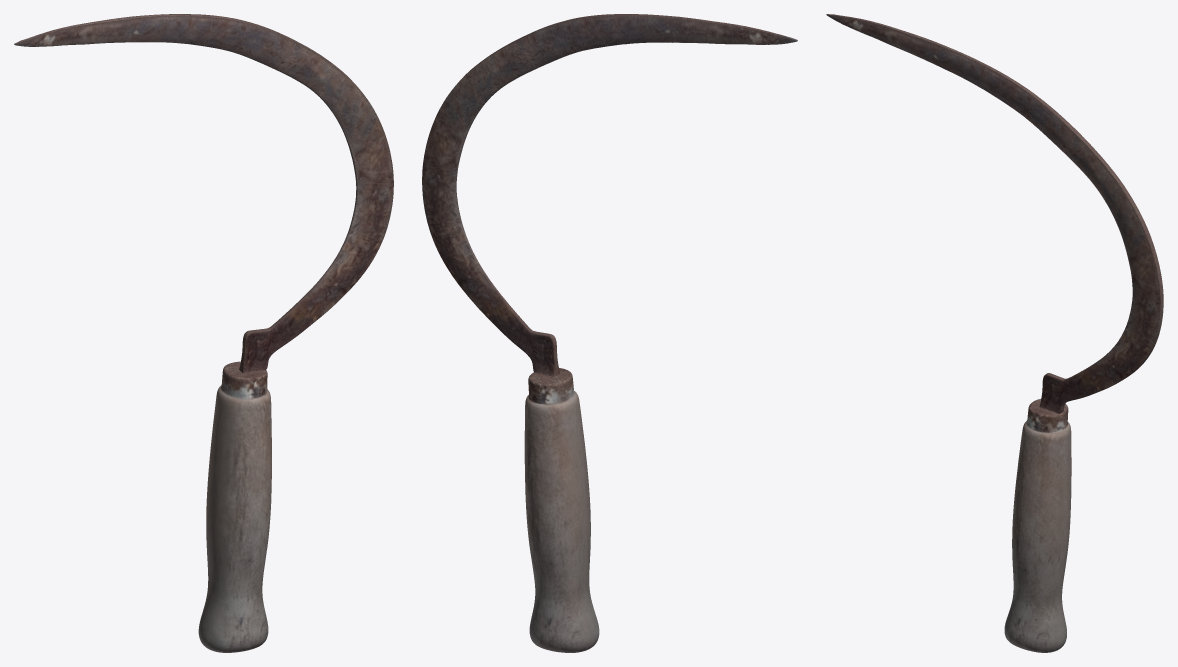
File: srp.glb
The picture shows the model from 3 angles, left to right: view 1: azimuth 30°, elevation 25°; view 2: azimuth 150°, elevation 25°; view 3: azimuth 330°, elevation 25°; orthographic projection. The views are drawn at different scales.
Size of the model in its own units: 1.13 by 1.9 by 0.165.
1 material, 1 textured.
